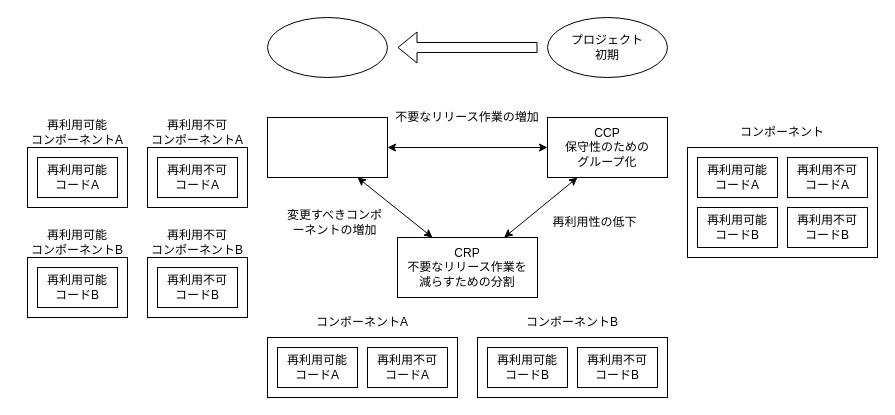
Some shapes in this 895 by 415 pixel diagram are drawn without their labels. The centre of each missing label's shape, as x and y in pixels:
REP 再利用性のための グループ化: point 327,147
プロジェクト 後期: point 327,47
